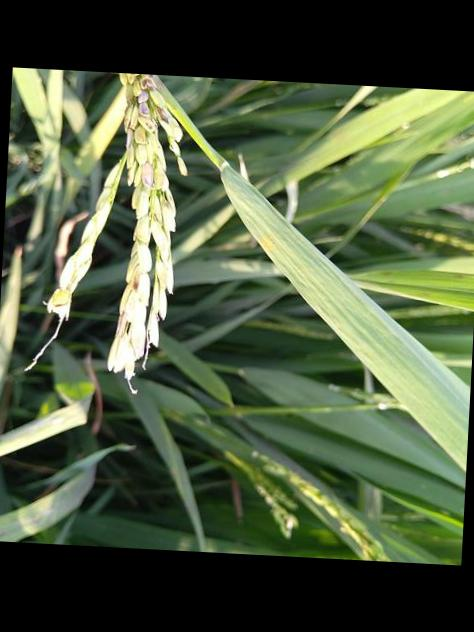Panicle Blight: (126, 73, 167, 123), (139, 161, 152, 189), (129, 265, 139, 294)
